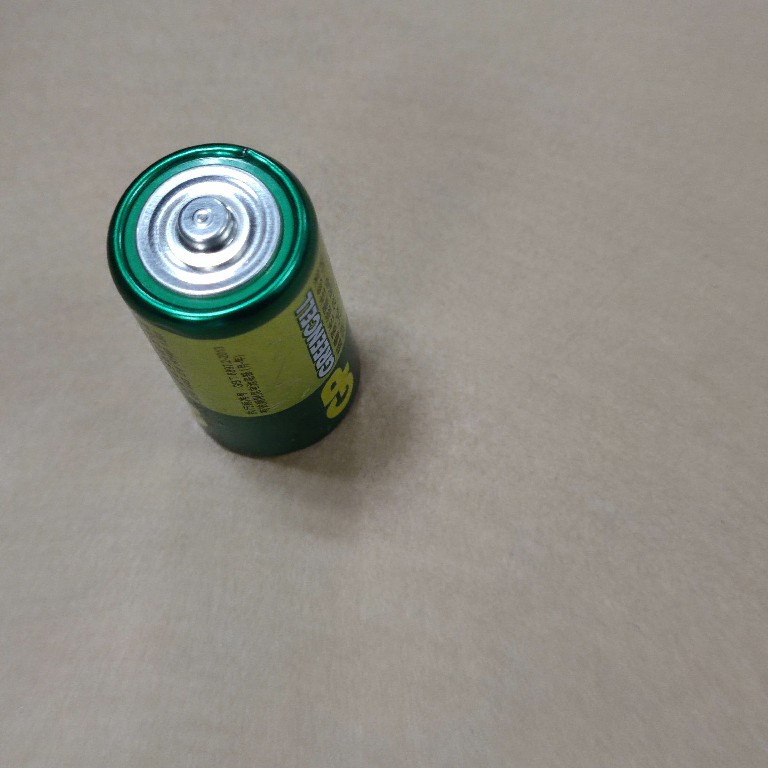charge: (102, 138, 367, 463)
